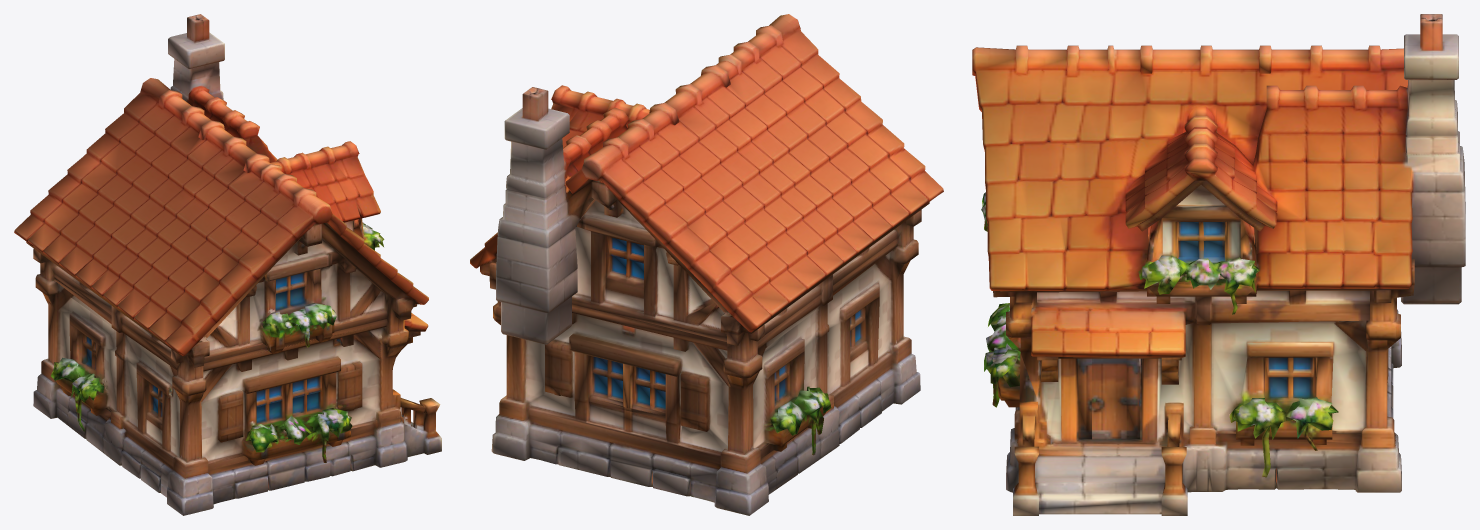
3 renders of one model, left to right at view 1: azimuth 30°, elevation 25°; view 2: azimuth 150°, elevation 25°; view 3: azimuth 270°, elevation 25°, orthographic. The views are drawn at different scales.
Parts seen in each view (by area): view 1: tripo_node_9c511031-ea5d-44eb-be66-5a70287c0cd2; view 2: tripo_node_9c511031-ea5d-44eb-be66-5a70287c0cd2; view 3: tripo_node_9c511031-ea5d-44eb-be66-5a70287c0cd2.
Boxes of the visible parts, bbox=[...] form: tripo_node_9c511031-ea5d-44eb-be66-5a70287c0cd2: bbox=[14, 14, 441, 515]; tripo_node_9c511031-ea5d-44eb-be66-5a70287c0cd2: bbox=[470, 14, 943, 515]; tripo_node_9c511031-ea5d-44eb-be66-5a70287c0cd2: bbox=[972, 14, 1465, 515].
Size of the model in its own units: 0.8253 by 0.9707 by 0.9784.
Materials: 1 (1 with a texture image).
